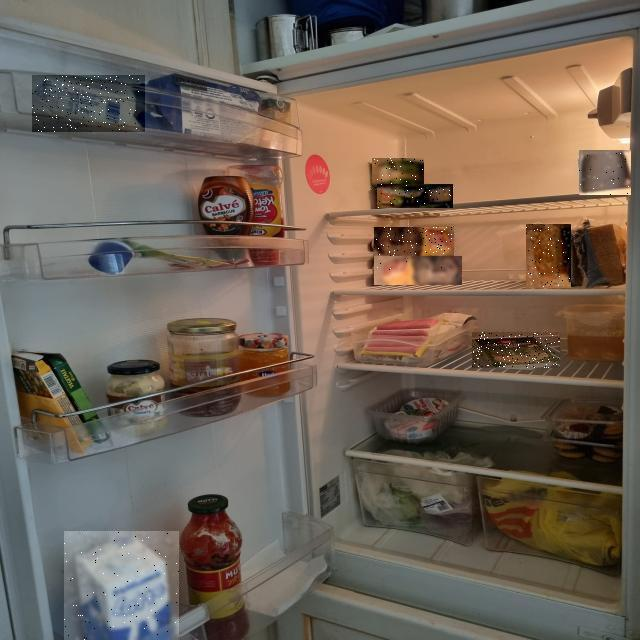Butter: (32, 75, 145, 132)
Cheese: (472, 332, 560, 368), (526, 224, 571, 288)
Eggs: (374, 227, 454, 259), (374, 256, 462, 285)
Milk: (64, 531, 179, 640)
Yoghurt: (579, 150, 631, 195), (377, 184, 453, 208), (372, 158, 424, 187)
